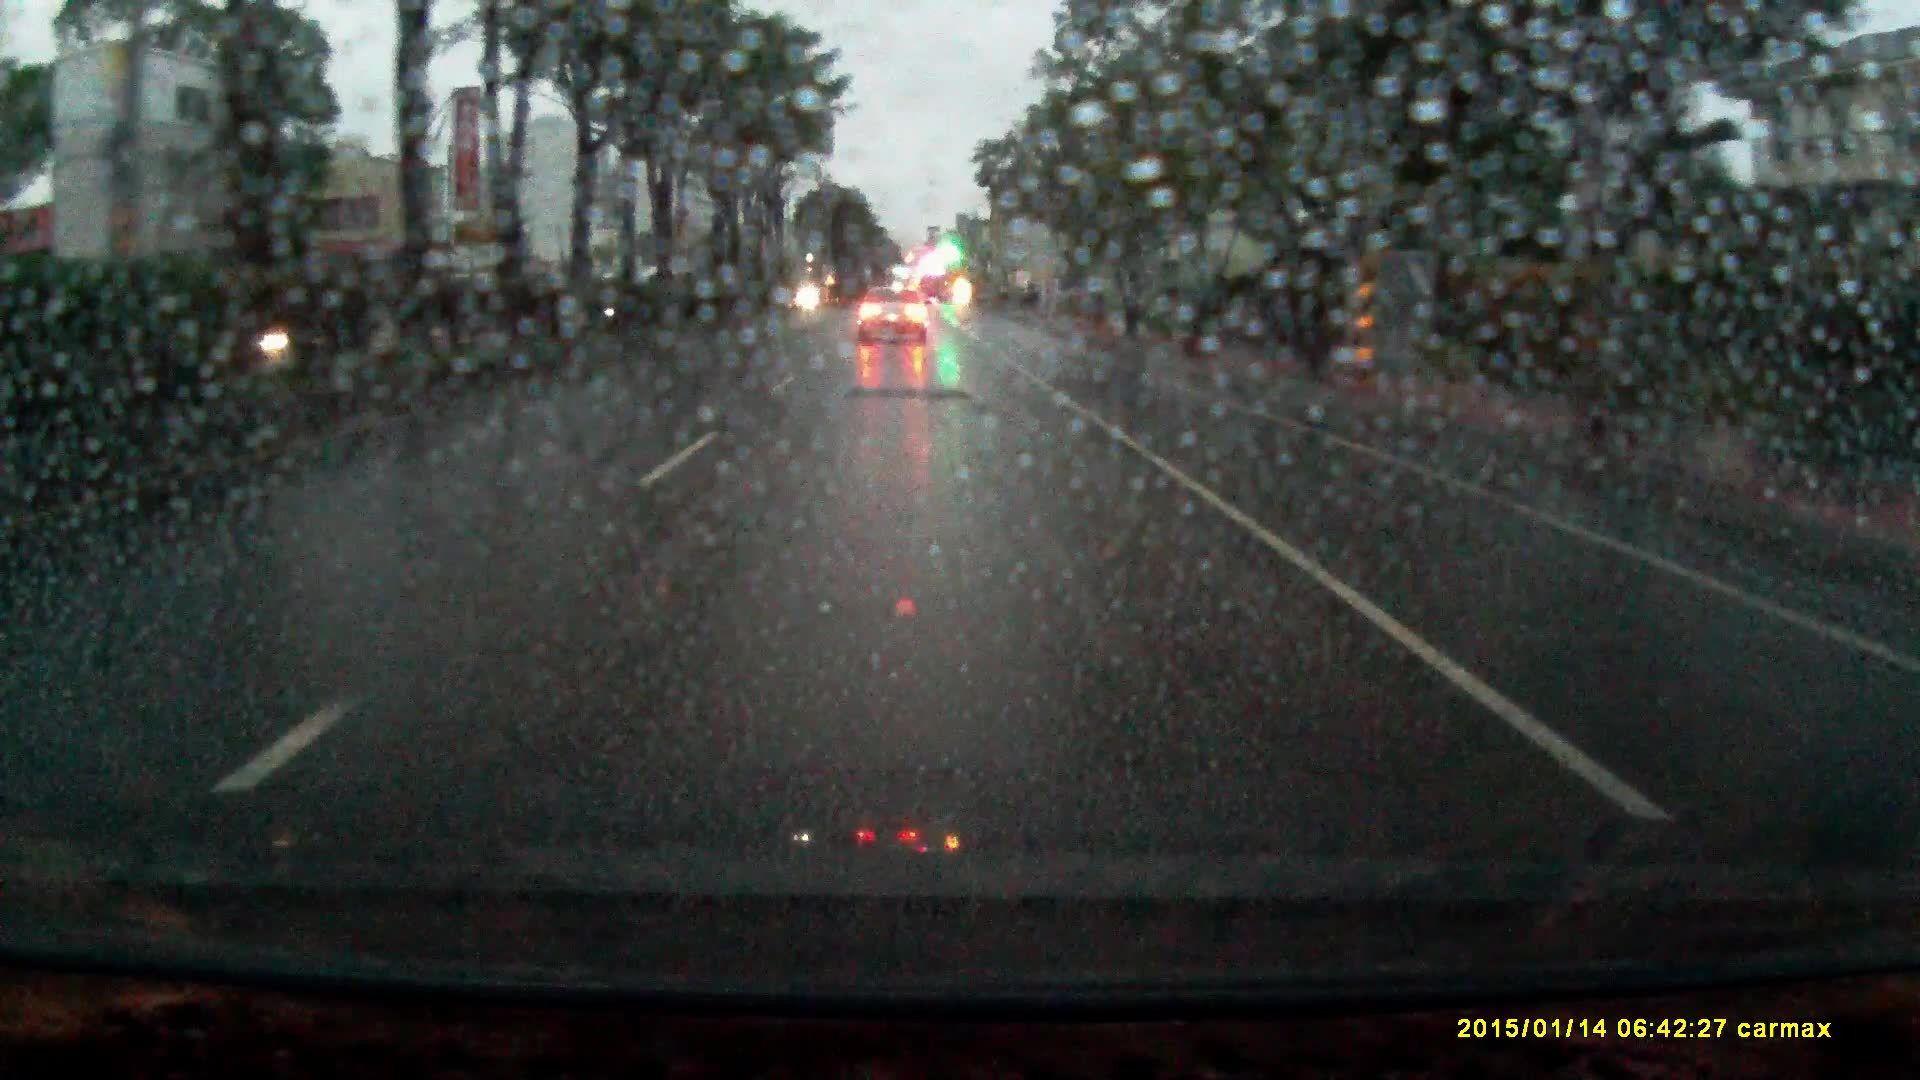vehicle: (858, 289, 928, 349)
